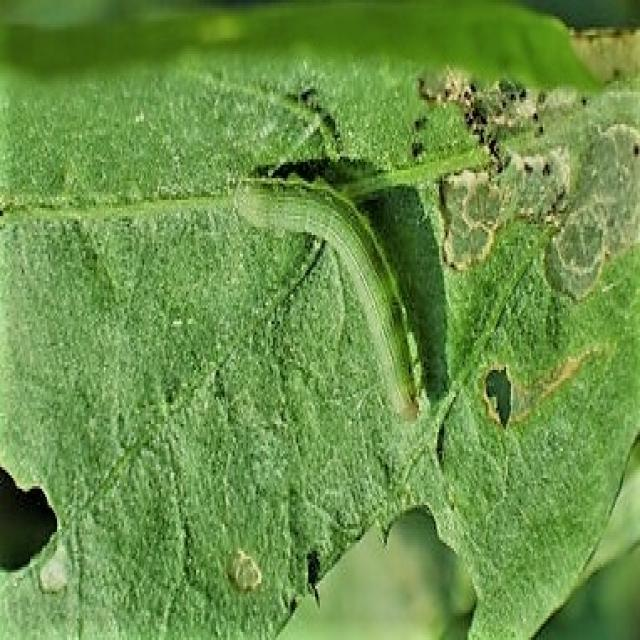armyworm: (233, 173, 427, 427)
